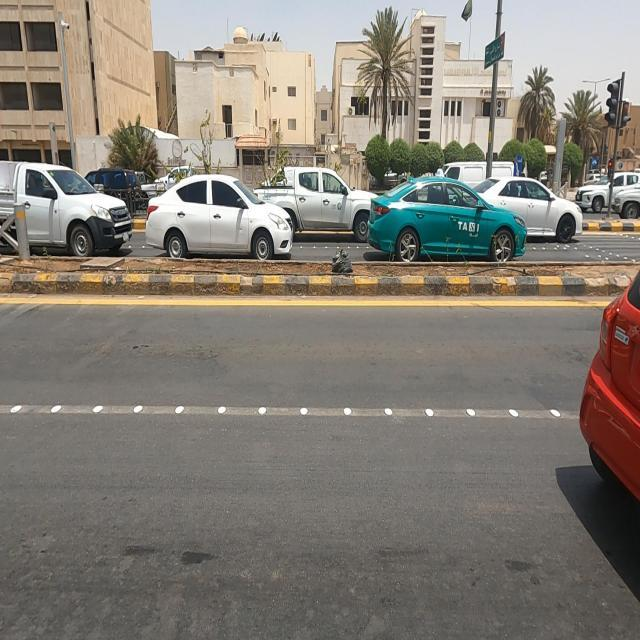debris: (305, 205, 372, 325)
